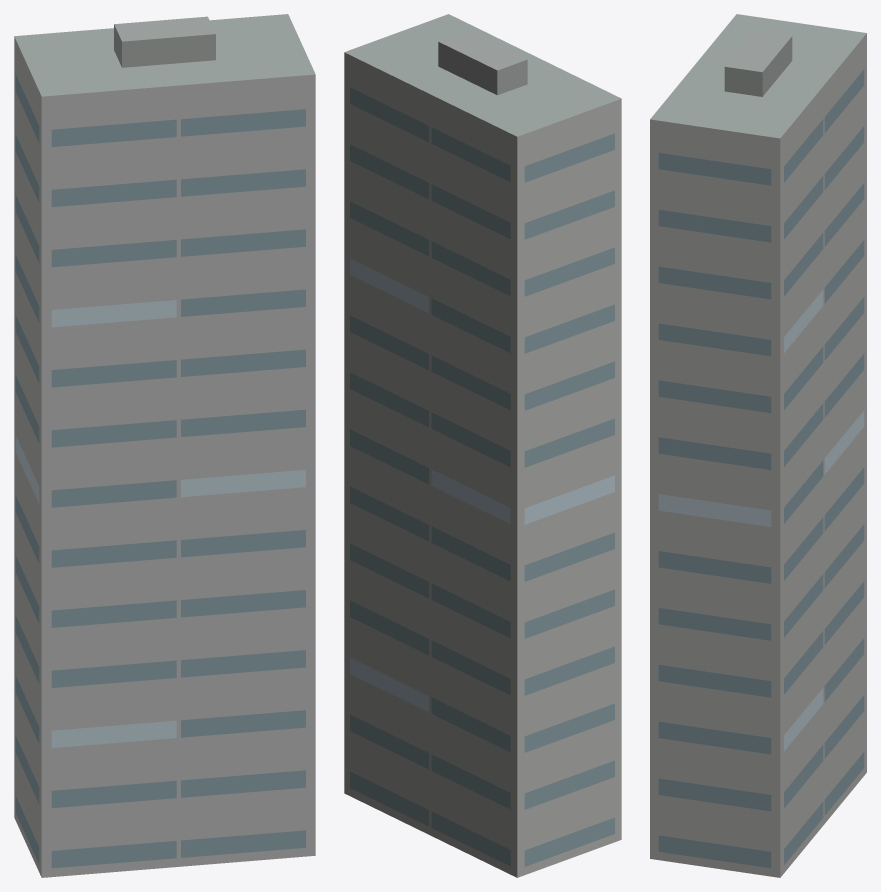
The model's file is fallback-jamsil-els-130.glb.
The picture shows the model from 3 angles, left to right: view 1: azimuth 30°, elevation 25°; view 2: azimuth 150°, elevation 25°; view 3: azimuth 270°, elevation 25°; orthographic projection. The views are drawn at different scales.
Parts seen in each view (by area): view 1: fallback-jamsil-els-130; view 2: fallback-jamsil-els-130; view 3: fallback-jamsil-els-130.
Boxes of the visible parts, x1=… form: fallback-jamsil-els-130: x1=14, y1=14, x2=315, y2=877; fallback-jamsil-els-130: x1=344, y1=14, x2=621, y2=877; fallback-jamsil-els-130: x1=650, y1=14, x2=866, y2=877.
Size of the model in its own units: 25.85 by 74 by 19.04.
